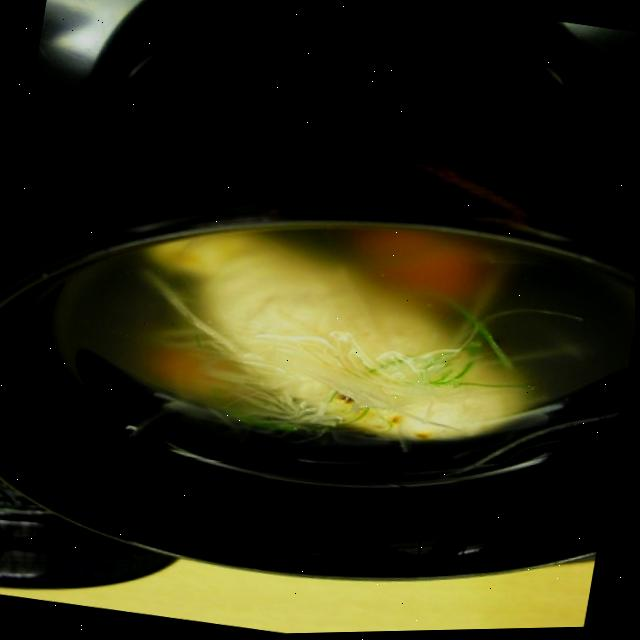汤锅炖物: (0, 117, 639, 598)
